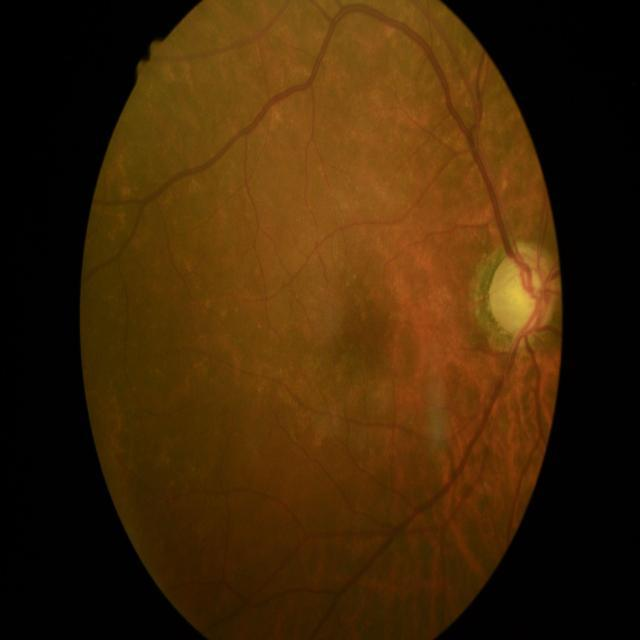cup: (493, 259, 544, 330)
disk: (490, 245, 554, 339)
